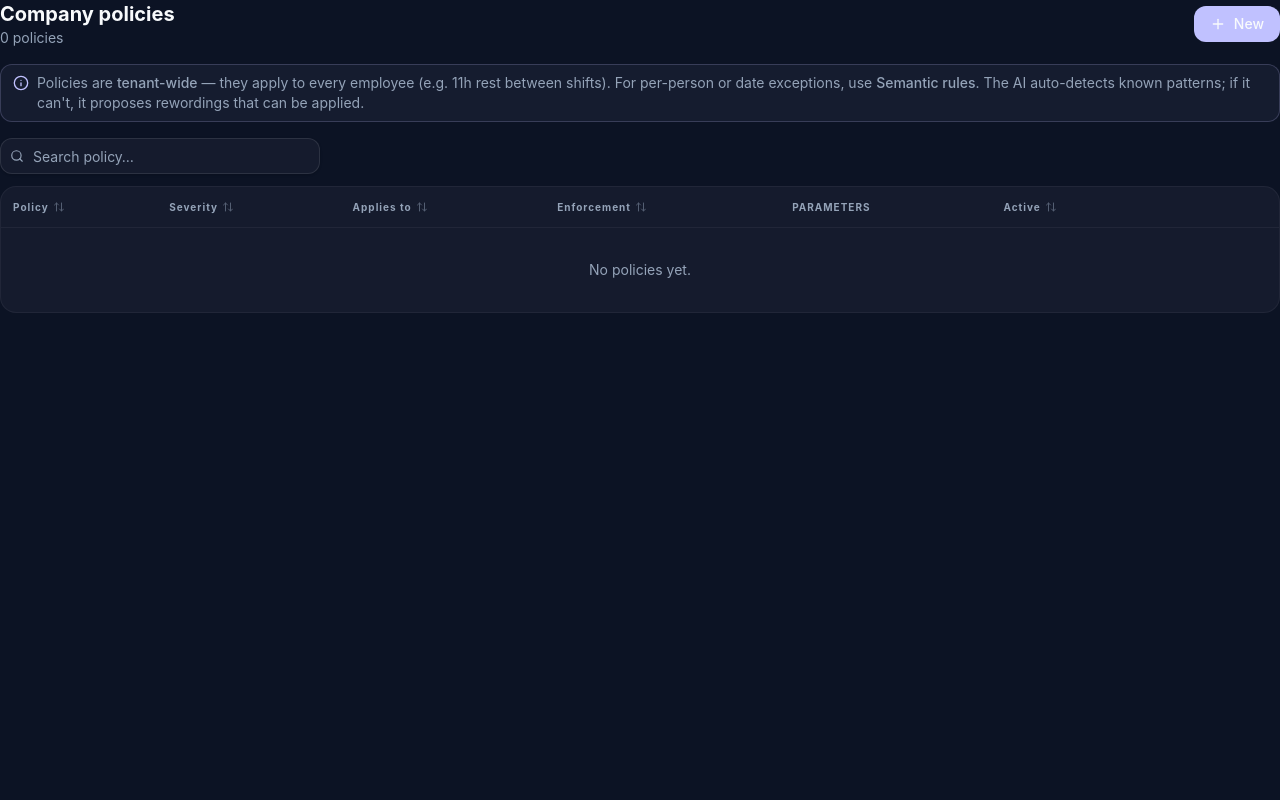
Test: CompanyPoliciesPage › LLM-only warning: cuando se guarda sin interpreter, muestra el panel y queda abierto
This screenshot has width=1280, height=800.
Check: the text "No policies yet." is shown, box top-left (1, 227), bottom-right (1279, 312)
Click the button with test id "new-policy-btn": (1237, 24) top-left (1194, 6), bottom-right (1279, 42)
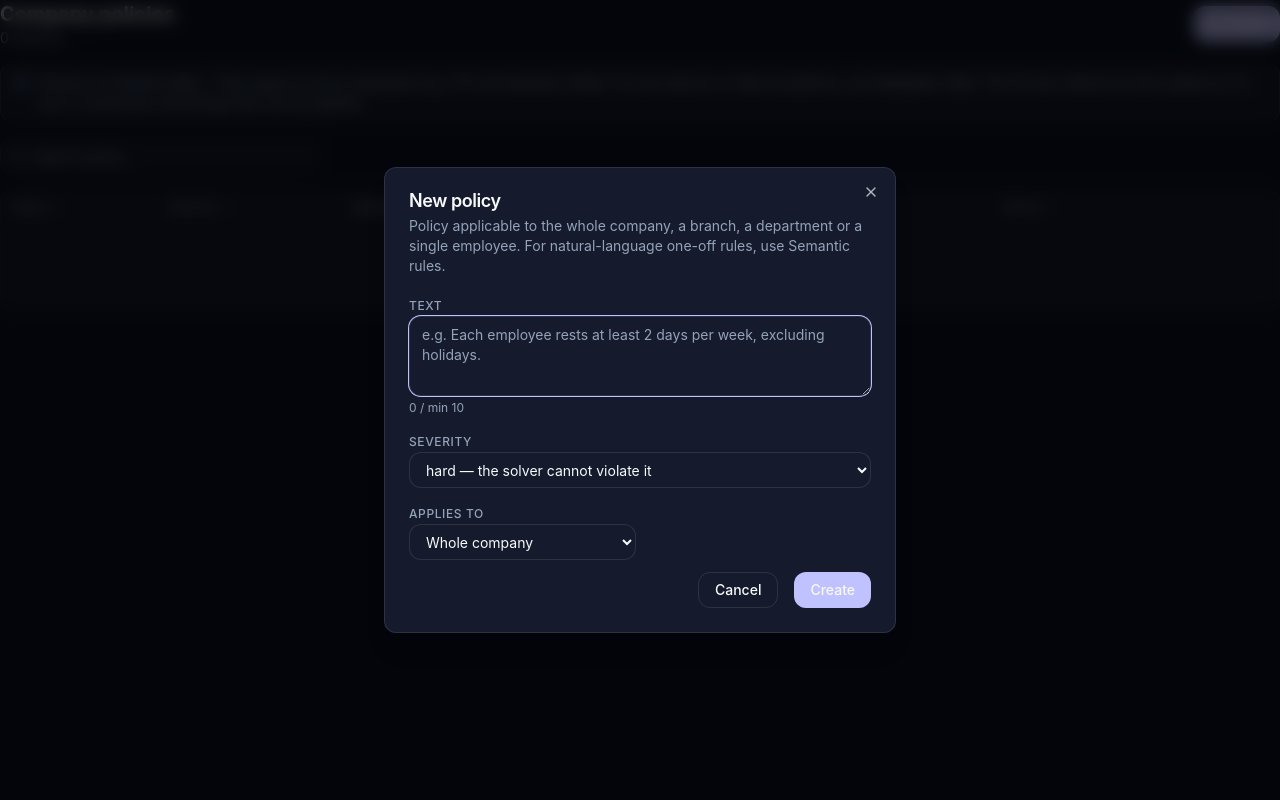
In the text box with test id "policy-text-input": (640, 356) top-left (409, 316), bottom-right (871, 396), type "política rara que el sistema no puede aplicar"
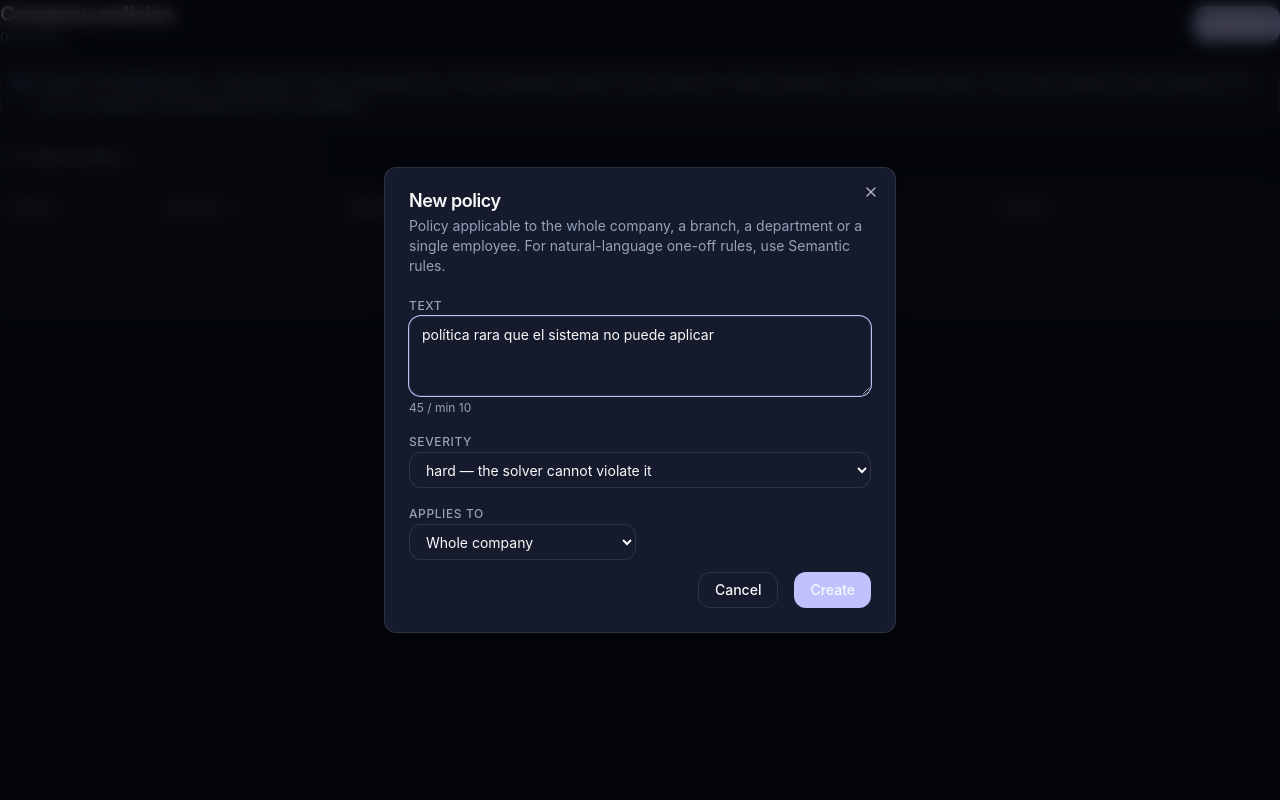
Click the button with test id "policy-submit": (833, 590) top-left (794, 572), bottom-right (871, 608)
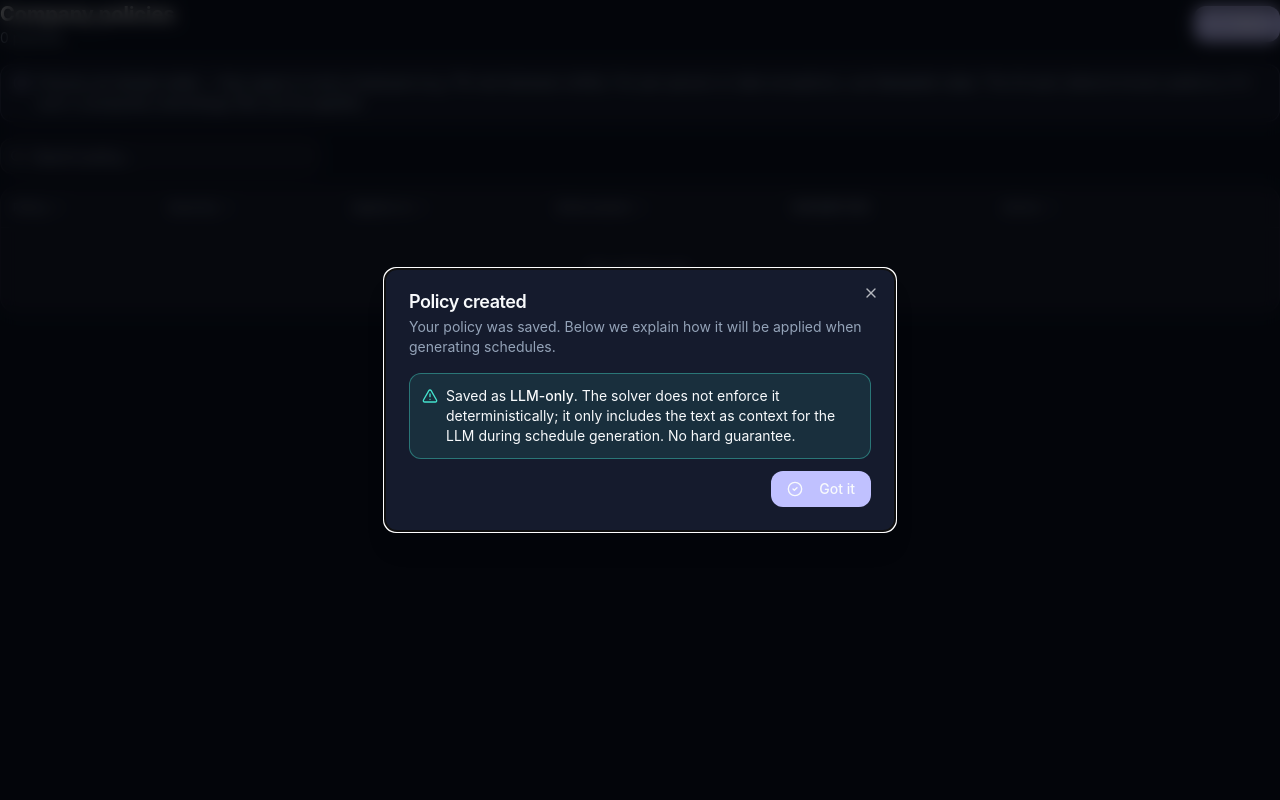
Check: the button with test id "created-info-close" is shown, box top-left (771, 471), bottom-right (871, 507)
Check: the element with test id "policy-created-info" is shown, box top-left (409, 373), bottom-right (871, 507)
Check: the text "LLM-only" is shown, box top-left (510, 387), bottom-right (574, 404)
